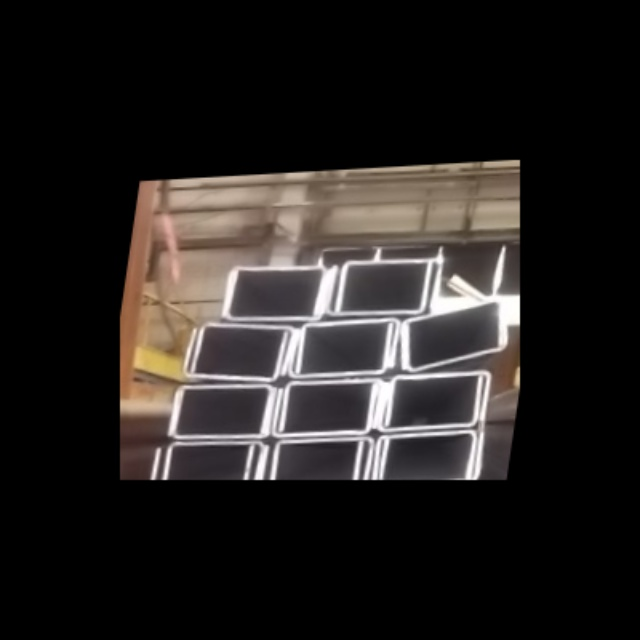Shveller: (396, 299, 508, 370), (402, 302, 512, 371), (182, 324, 289, 384), (192, 319, 295, 379), (228, 266, 331, 323), (327, 261, 431, 317), (168, 382, 272, 438), (337, 258, 440, 314), (173, 386, 276, 442), (281, 378, 383, 433), (222, 265, 325, 319), (274, 383, 376, 437), (387, 373, 490, 426), (379, 377, 482, 430), (297, 319, 398, 372), (290, 324, 390, 376), (373, 432, 476, 480), (380, 434, 484, 480), (271, 437, 374, 480), (160, 439, 263, 480), (259, 440, 362, 480), (149, 444, 253, 480)
